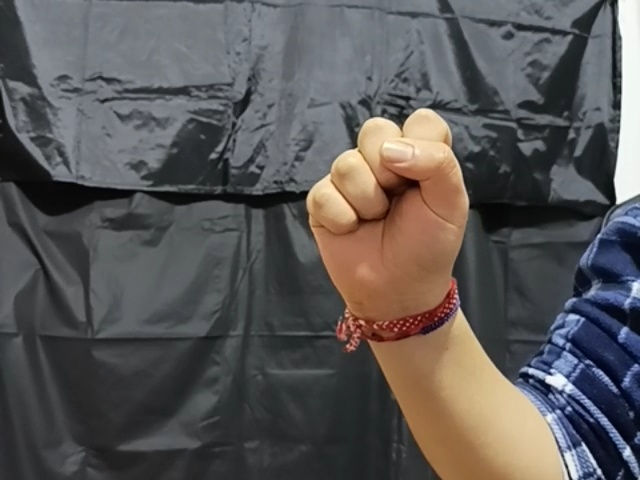S: (303, 106, 467, 296)
